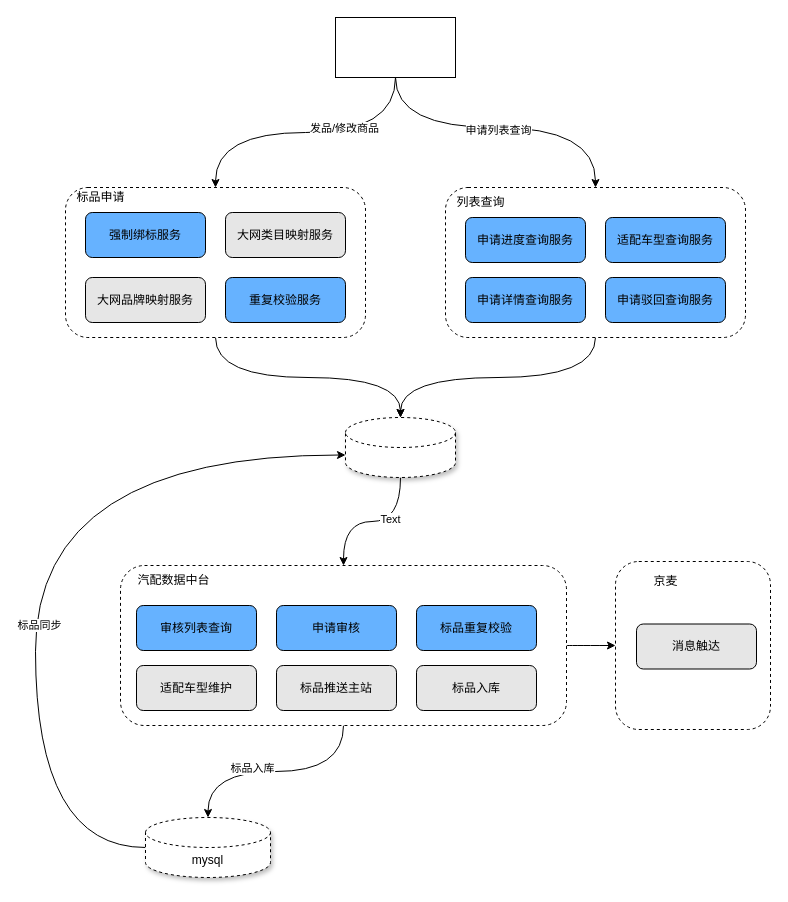
The diagram is 788 pixels wide and 902 high, and some of its shapes have lost their labels. Each missing label, with the centre of its shape:
ES: (401,448)
VC/SHOP: (395,47)
